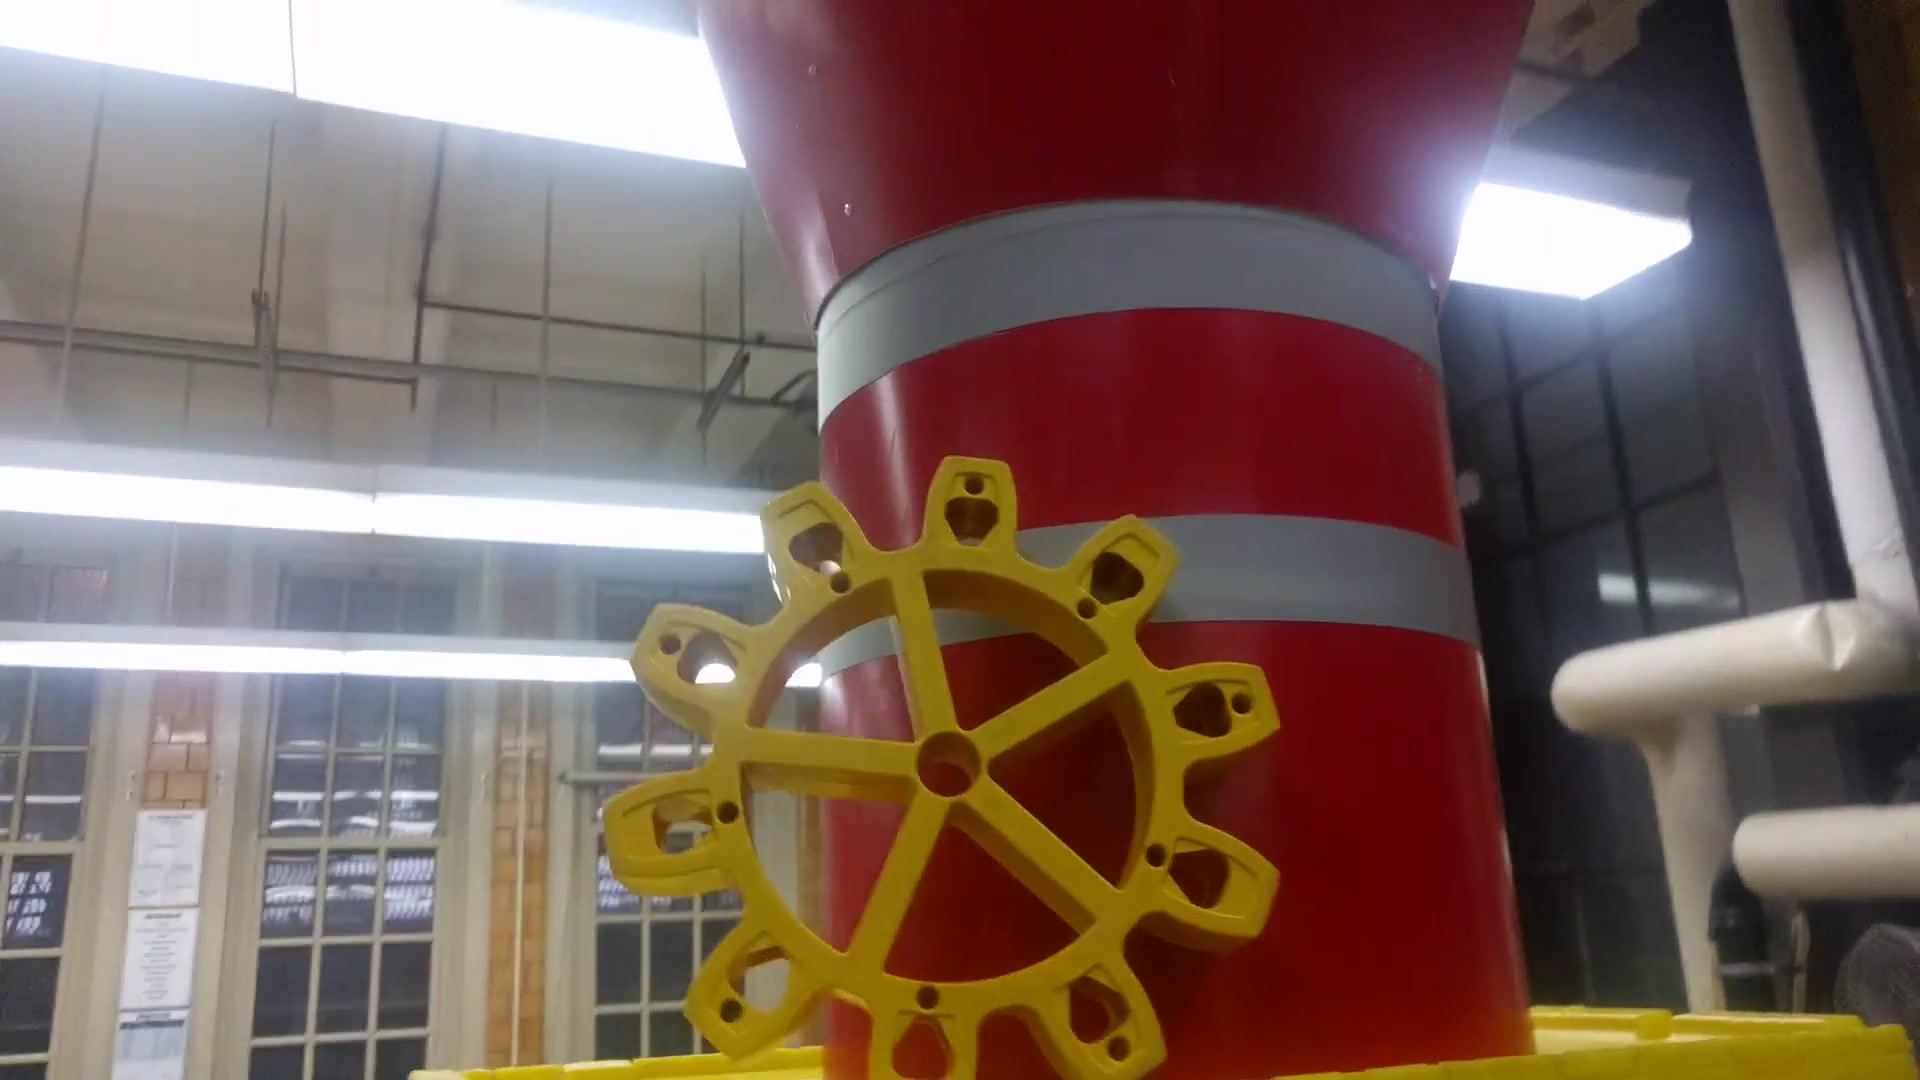gear: (574, 440, 1317, 1080)
